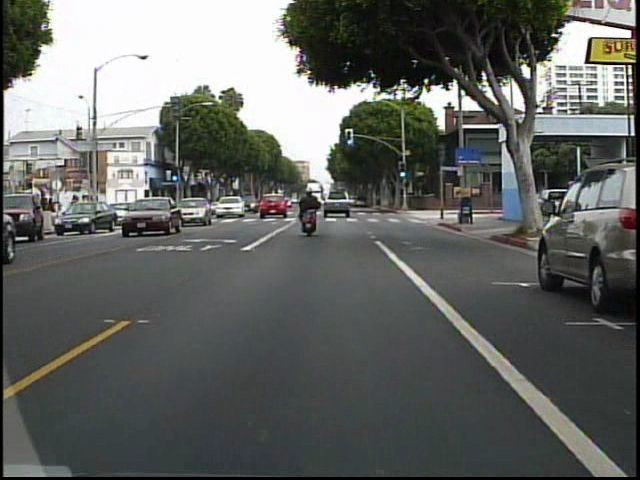person: (295, 183, 325, 241)
